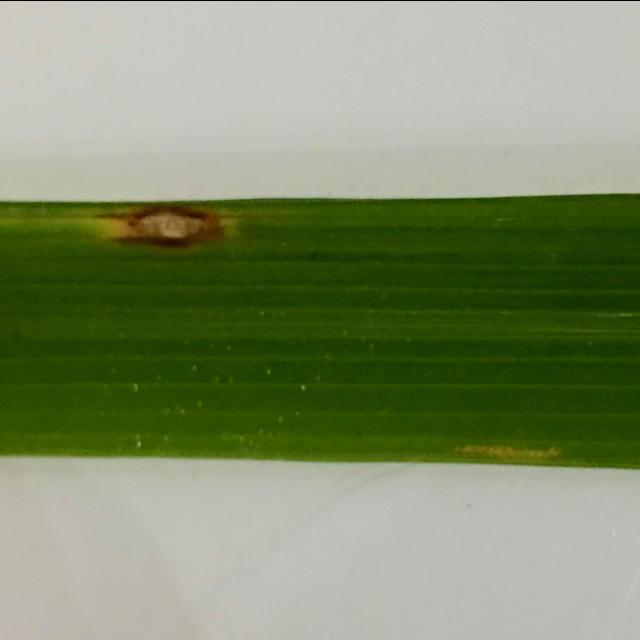Leaf_Blast: (58, 174, 256, 272)
